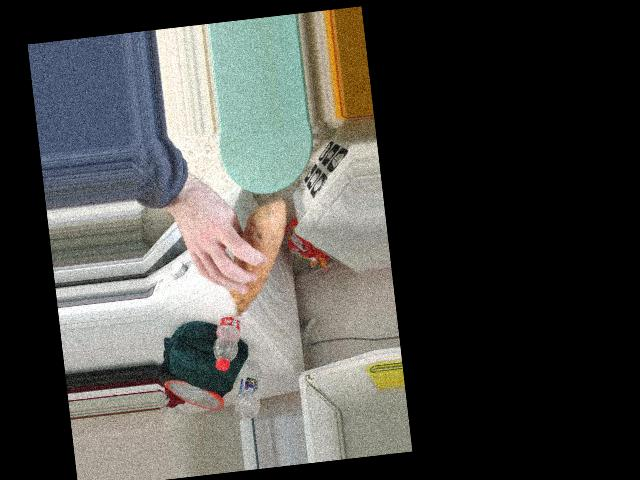sweet_potato: (204, 217, 294, 311)
